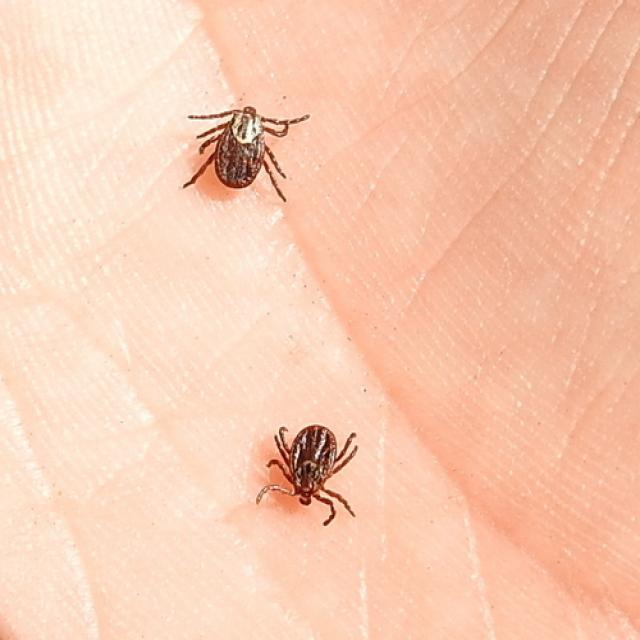Dermacentor Reticulatus-F: (189, 107, 310, 203), (255, 424, 357, 529)
